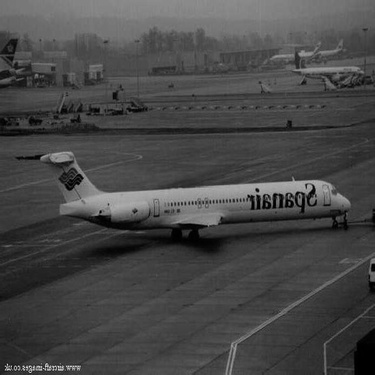airplane: (24, 136, 357, 253), (280, 58, 368, 98), (253, 38, 351, 68)
